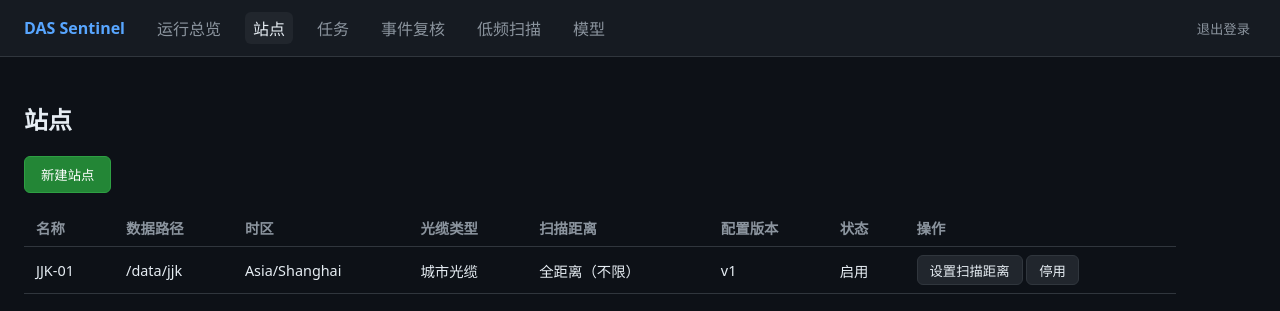
Test: toggles a site enabled state
What coordinates should you click on to do the following:
click the button "停用"
I would click on:
 (1053, 270)
Its box is x1=1026 y1=255 x2=1079 y2=285.
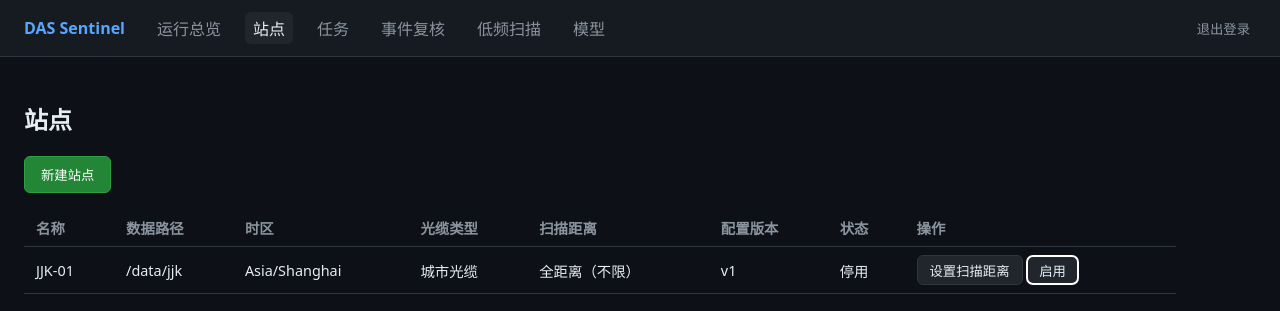
Expected: the text "停用" is shown, x1=828 y1=246 x2=905 y2=294
